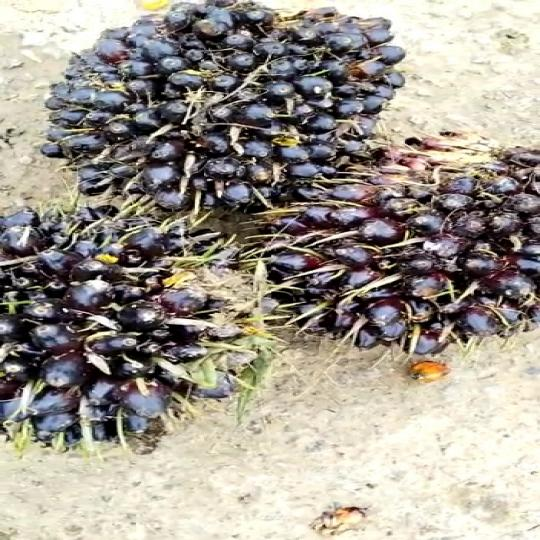mentah: (36, 3, 429, 240), (0, 203, 318, 448), (252, 149, 540, 353)
